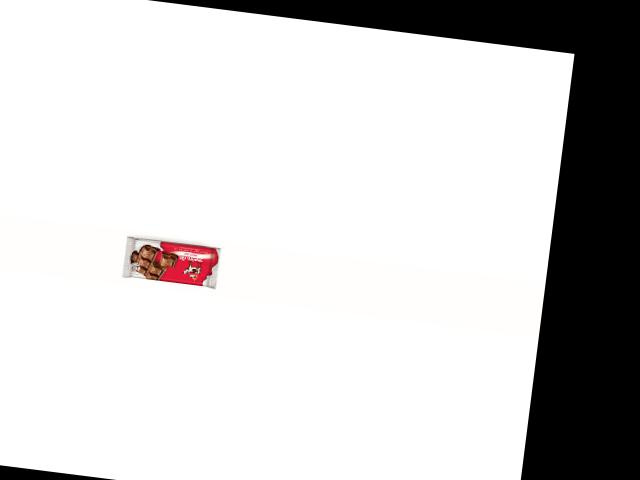chocolate: (119, 228, 224, 292)
